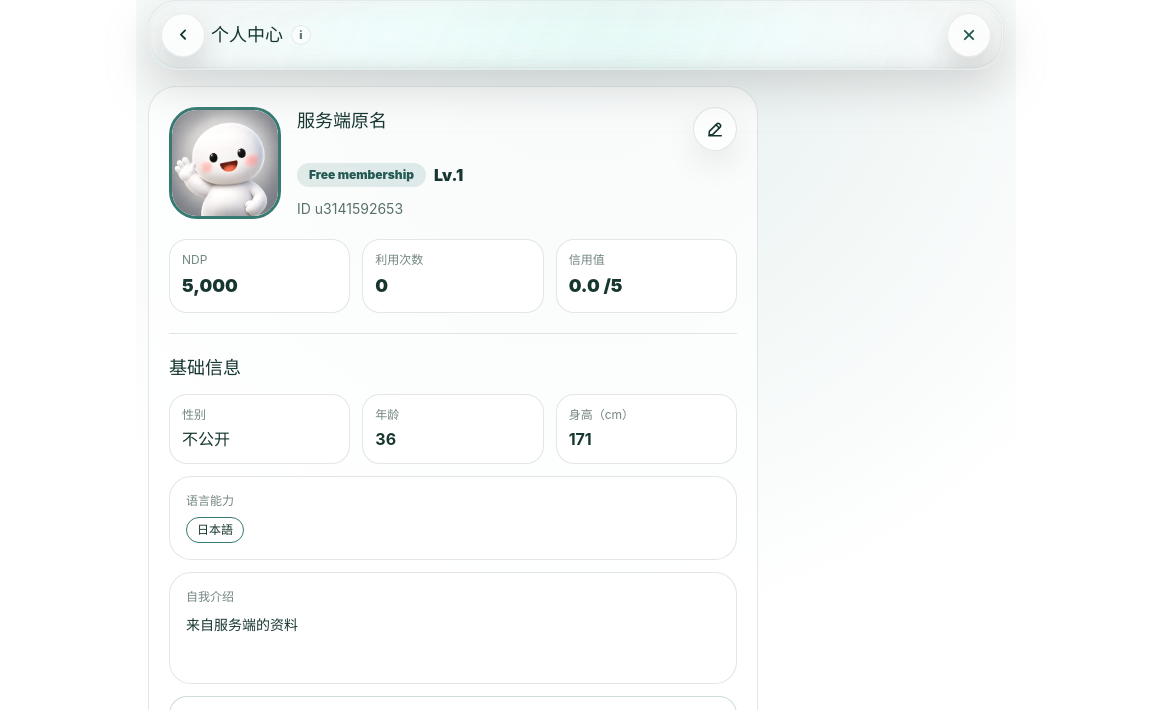
Test: UserCenterPage inline profile editing › handles cancellation from optional cache persistence after a successful profile save
Click the button named "编辑资料". click: coordinates (715, 129)
box: [693,107,737,151]
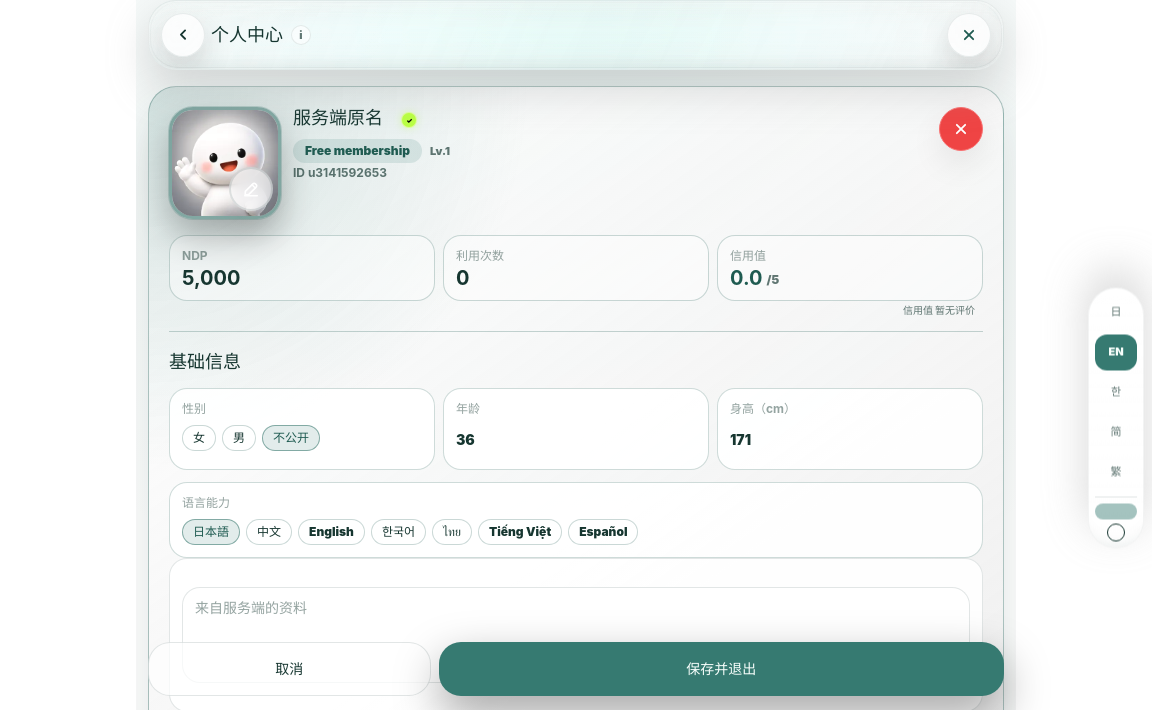
Click the button "保存并退出". click: coordinates (721, 669)
box: [439,642,1004,696]
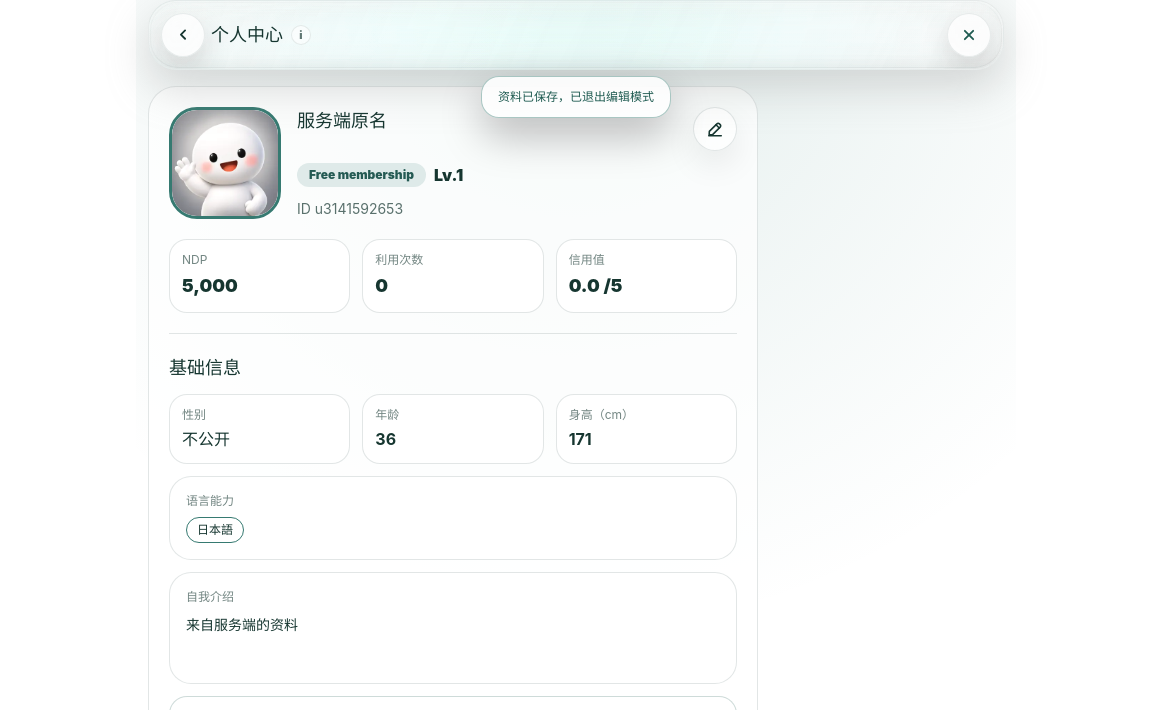
Check: the text "资料已保存，已退出编辑模式" is shown, box [481,76,671,118]
